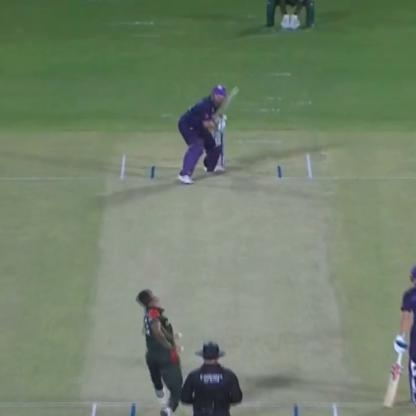ball: (176, 343, 186, 356), (174, 330, 185, 339)
pitch: (87, 152, 342, 415)
